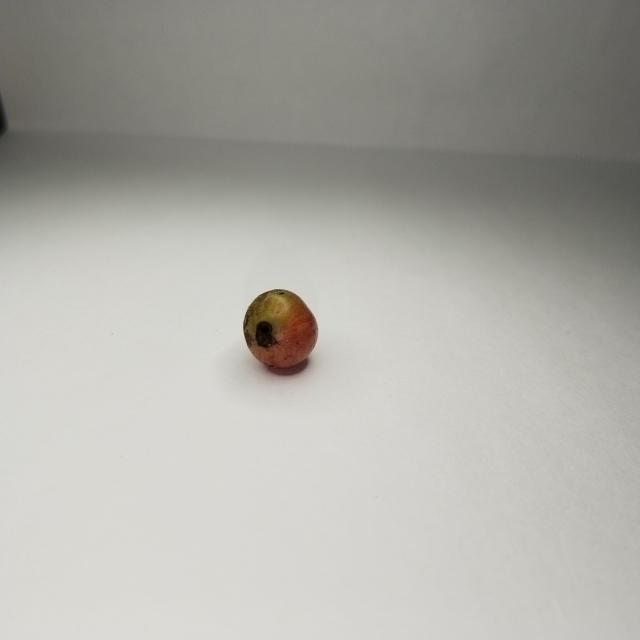Infectado: (244, 289, 316, 373)
